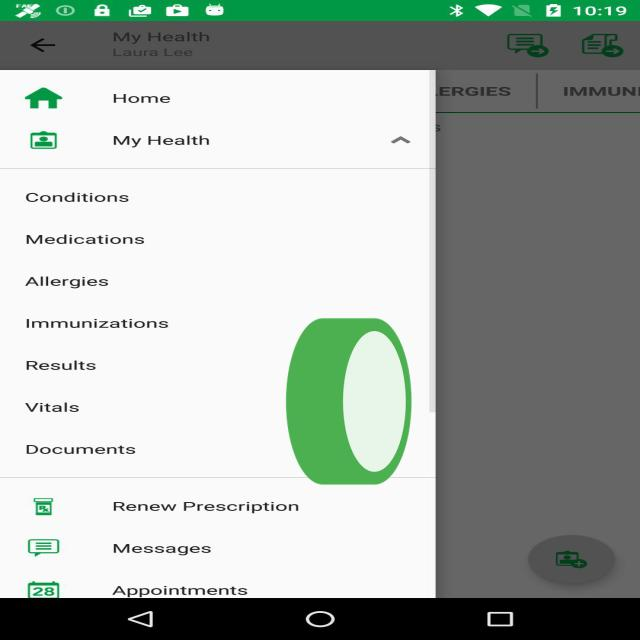social proof: (280, 254, 417, 562)
